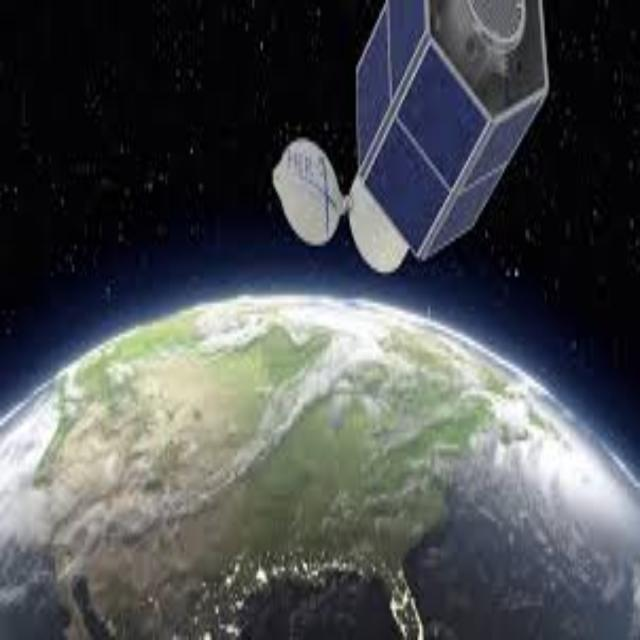sat: (253, 0, 579, 300)
